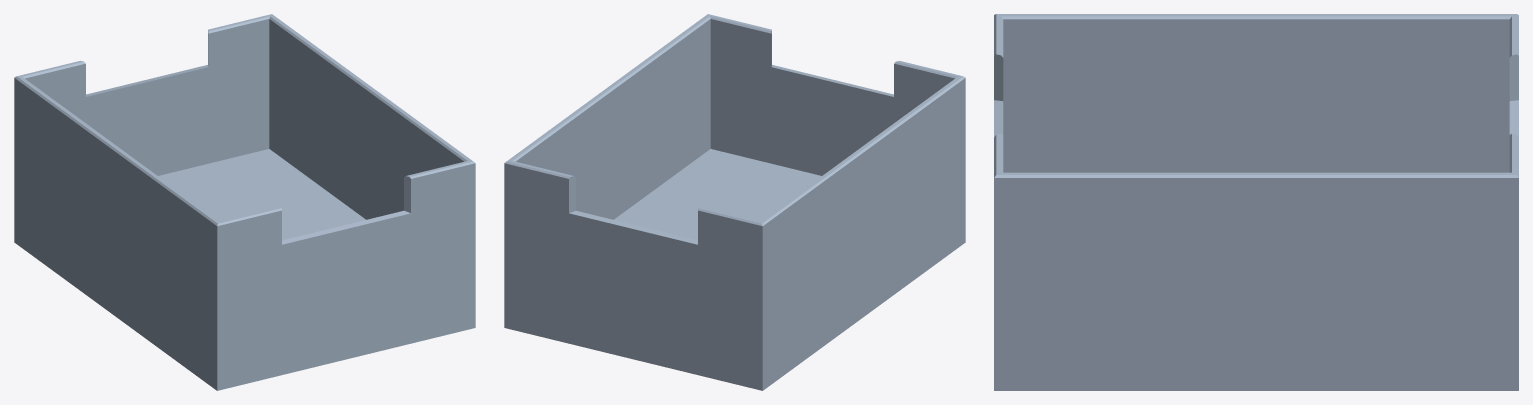
File: OrangeCartoon.fbx
The picture shows the model from 3 angles, left to right: view 1: azimuth 30°, elevation 25°; view 2: azimuth 150°, elevation 25°; view 3: azimuth 270°, elevation 25°; orthographic projection. The views are drawn at different scales.
Visible parts, largest first — view 1: Cube.005; view 2: Cube.005; view 3: Cube.005.
Boxes of the visible parts, x1,y1,x2,y2 form: Cube.005: (14, 14, 475, 390); Cube.005: (504, 14, 965, 390); Cube.005: (994, 14, 1518, 390).
Size of the model in its own units: 1376 by 846 by 1871.
